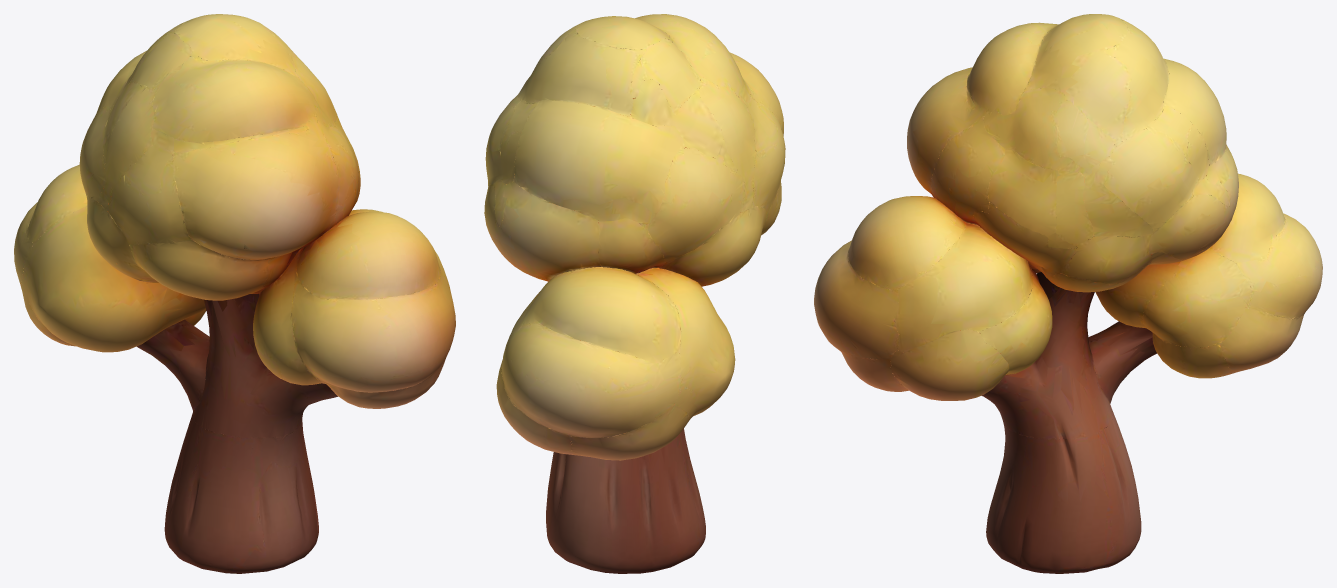
File: E02-autumn-maple-tree.glb
The picture shows the model from 3 angles, left to right: view 1: azimuth 30°, elevation 25°; view 2: azimuth 150°, elevation 25°; view 3: azimuth 270°, elevation 25°; orthographic projection. The views are drawn at different scales.
Parts seen in each view (by area): view 1: E02-autumn-maple-tree; view 2: E02-autumn-maple-tree; view 3: E02-autumn-maple-tree.
Boxes of the visible parts, x1=… form: E02-autumn-maple-tree: x1=14, y1=14, x2=455, y2=573; E02-autumn-maple-tree: x1=484, y1=14, x2=785, y2=573; E02-autumn-maple-tree: x1=814, y1=14, x2=1322, y2=573.
Bounding box in the file's own units: 2.97 × 5 × 4.41.
1 material, 1 textured.
